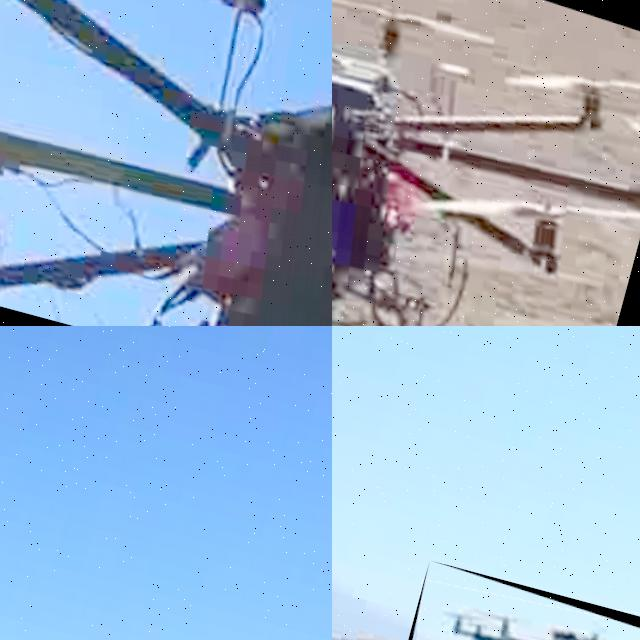drone: (0, 0, 332, 326), (332, 0, 640, 326), (397, 559, 640, 640)
